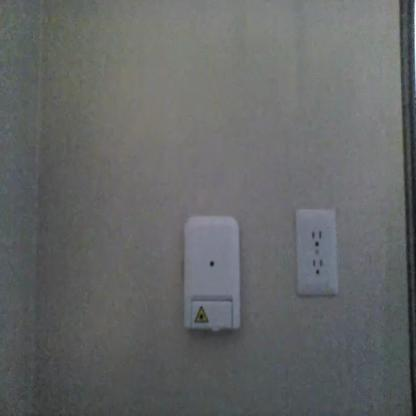OUTLET: (296, 207, 338, 297)
